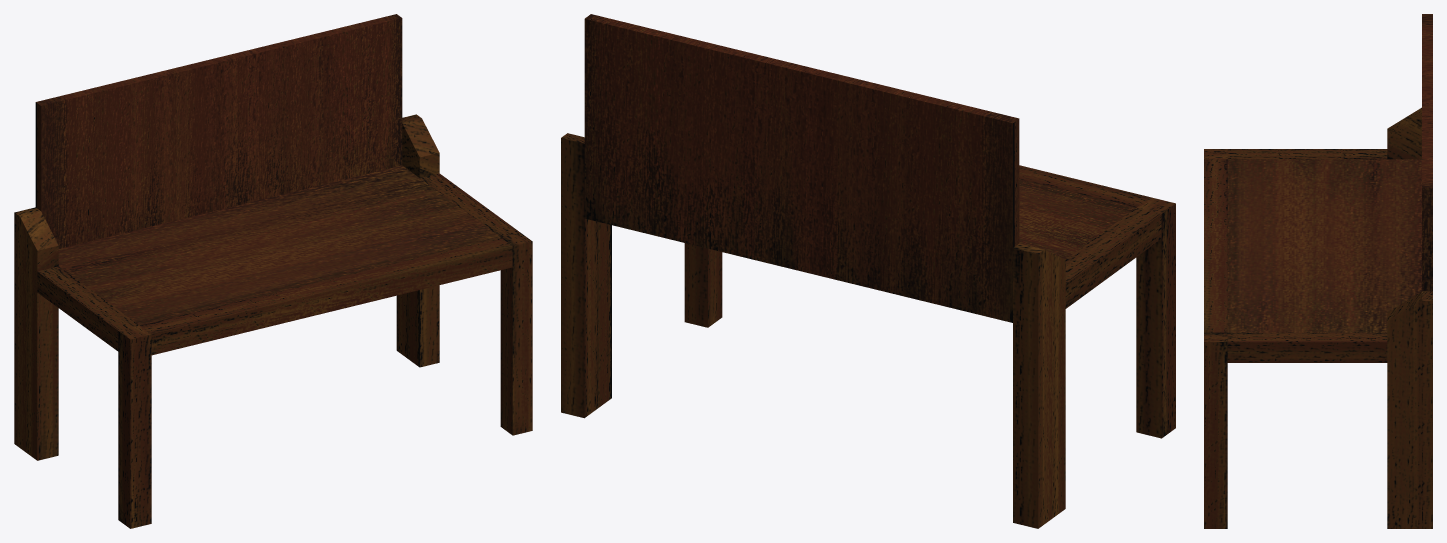
File: Horror_Final_Workbench.fbx
3 views of the same model, side by side, from view 1: azimuth 30°, elevation 25°; view 2: azimuth 150°, elevation 25°; view 3: azimuth 270°, elevation 25° (orthographic). The views are drawn at different scales.
Visible parts, largest first — view 1: polySurface286; view 2: polySurface286; view 3: polySurface286.
Part boxes in pixels (x1,y1,x2,y2): polySurface286: [14, 14, 532, 528]; polySurface286: [561, 14, 1175, 528]; polySurface286: [1204, 14, 1432, 528].
Size of the model in its own units: 200 by 160 by 100.
1 material, 1 textured.
